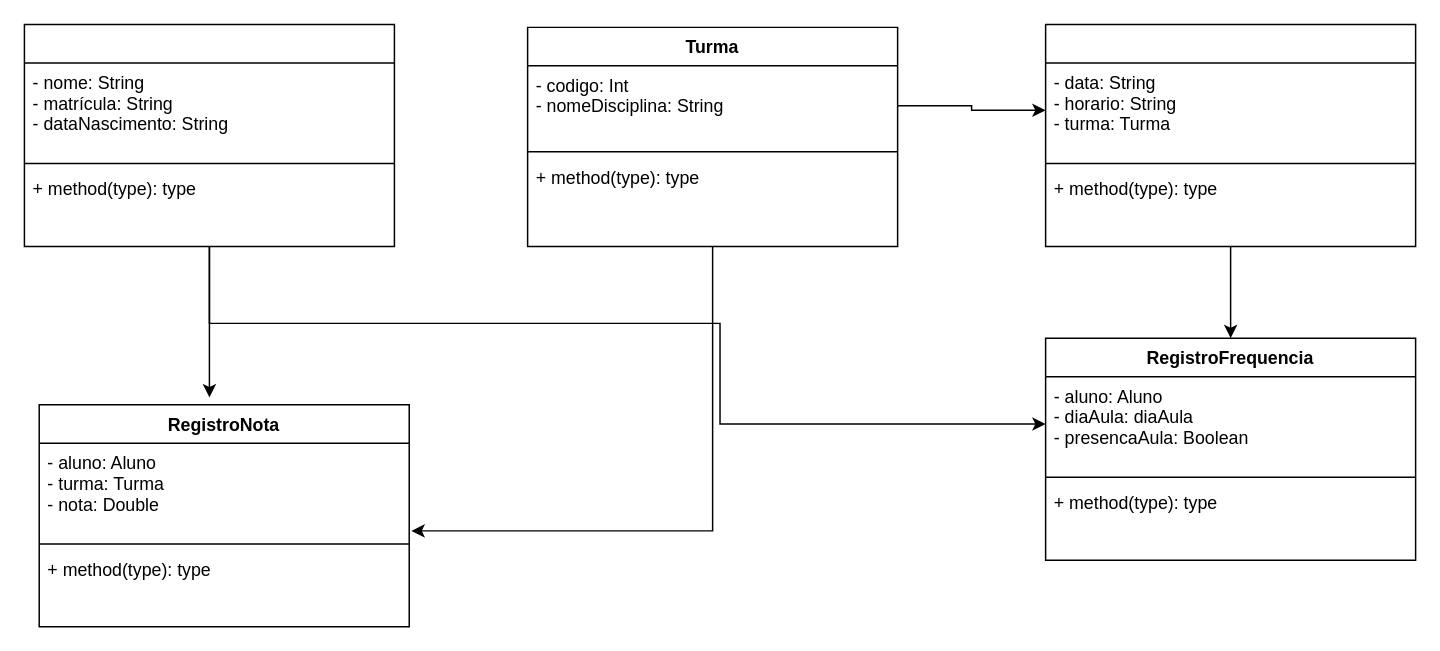
This 1440x651 diagram has some shape labels left out. Each missing label, with the box of its shape:
Aluno: (23, 23, 394, 246)
DiasAula: (1044, 23, 1416, 246)
